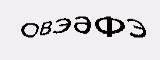А: (85, 15, 106, 38)
Ж: (53, 16, 68, 37)
И: (69, 17, 85, 37)
Н: (106, 15, 125, 37)
Ю: (35, 18, 54, 35)
